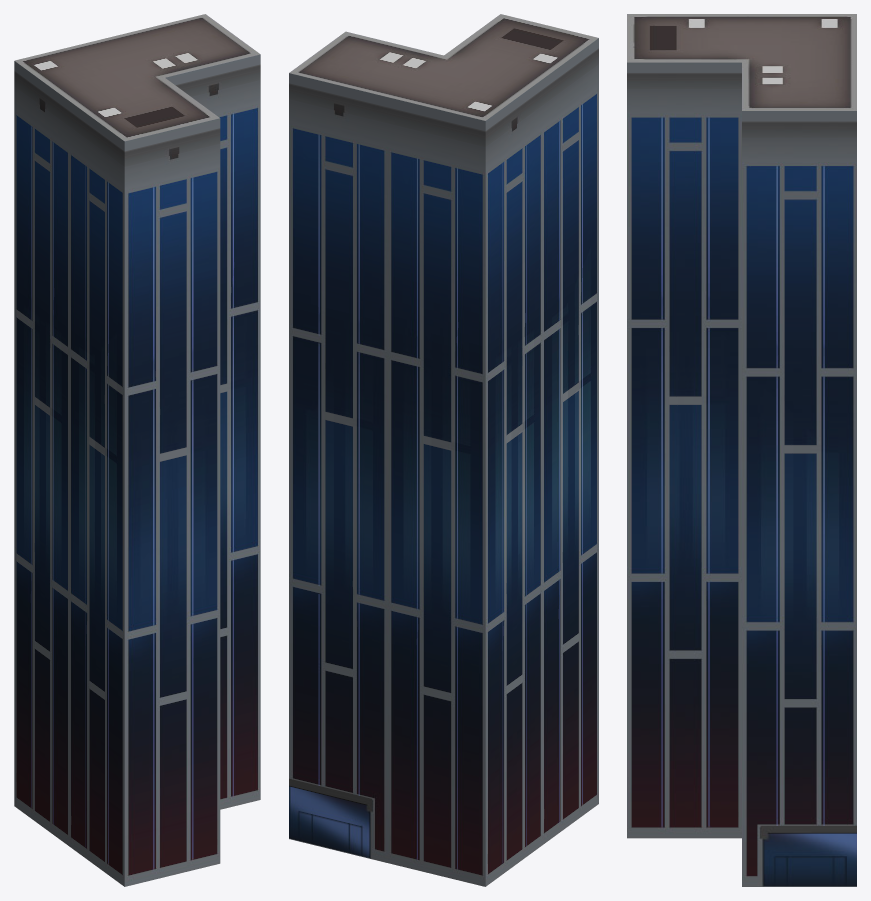
Rendered from House(1) 1.FBX.
3 renders of one model, left to right at view 1: azimuth 30°, elevation 25°; view 2: azimuth 150°, elevation 25°; view 3: azimuth 270°, elevation 25°, orthographic. The views are drawn at different scales.
Visible parts, largest first — view 1: House; view 2: House; view 3: House.
Part boxes in pixels (<box>): House: <box>14,14,260,886</box>; House: <box>289,14,598,886</box>; House: <box>627,14,856,886</box>.
Size of the model in its own units: 27.16 by 101 by 27.16.
Materials: 1 (1 with a texture image).
